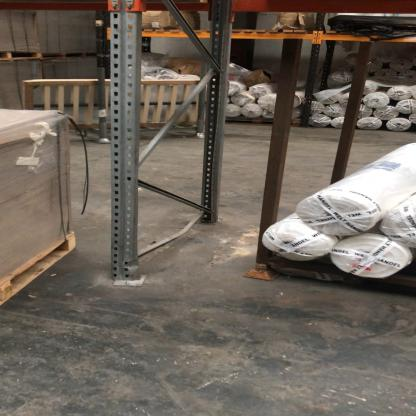vertical_damage: (107, 253, 152, 292)
